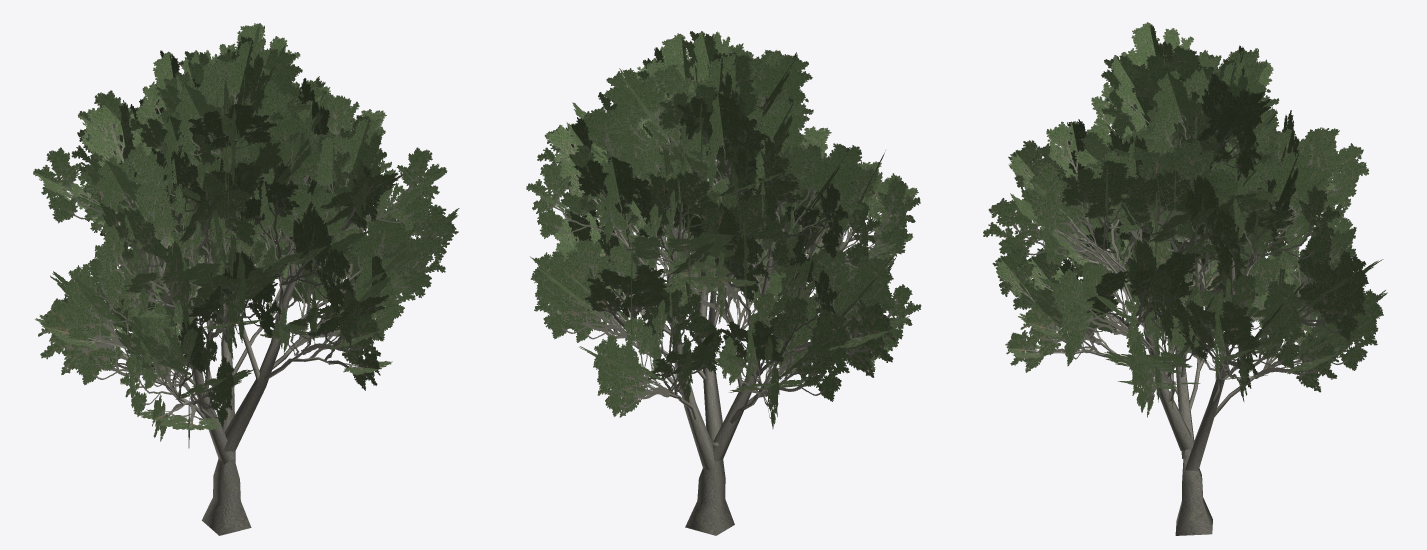
File: UmbellulariaCalifornica.glb
The picture shows the model from 3 angles, left to right: view 1: azimuth 30°, elevation 25°; view 2: azimuth 150°, elevation 25°; view 3: azimuth 270°, elevation 25°; orthographic projection.
Parts seen in each view (by area): view 1: California_Bay__Realistic_LOD3; view 2: California_Bay__Realistic_LOD3; view 3: California_Bay__Realistic_LOD3.
Boxes of the visible parts, x1,y1,x2,y2 form: California_Bay__Realistic_LOD3: (33, 23, 459, 535); California_Bay__Realistic_LOD3: (526, 31, 921, 535); California_Bay__Realistic_LOD3: (983, 22, 1387, 535).
Size of the model in its own units: 22.68 by 27.87 by 22.43.
Materials: 1 (1 with a texture image).
